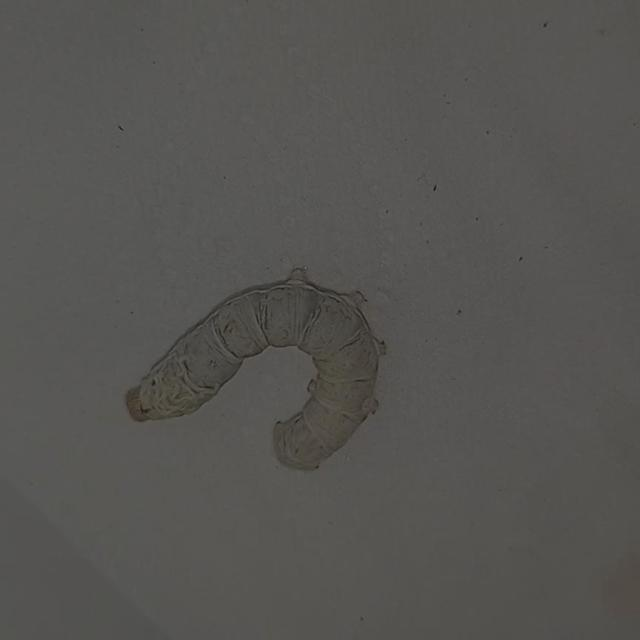Healthy: (108, 260, 436, 498)
